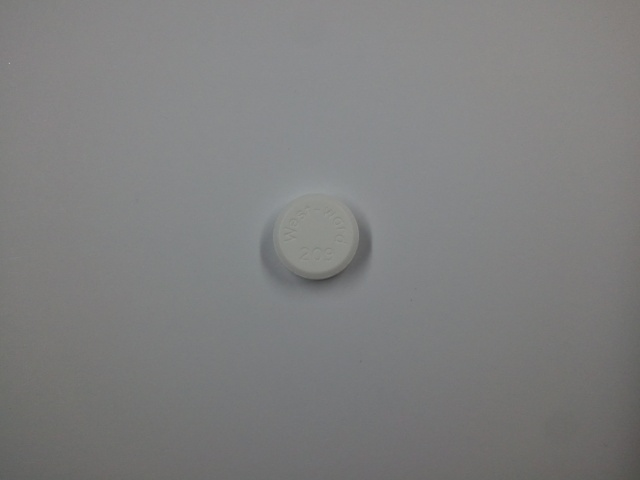0: (311, 245, 323, 263)
2: (297, 245, 310, 263)
W: (283, 227, 298, 244)
